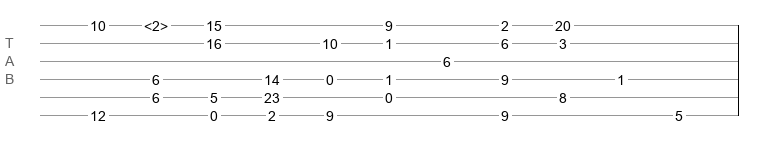0: (210, 108, 218, 118), (326, 72, 334, 82), (385, 90, 393, 100)
1: (385, 72, 393, 82), (385, 36, 393, 46), (617, 72, 625, 82)
10: (90, 18, 106, 28), (322, 36, 338, 46)
12: (90, 108, 106, 118)
14: (264, 72, 280, 82)
15: (206, 18, 222, 28)
16: (206, 36, 222, 46)
2: (268, 108, 276, 118), (501, 18, 509, 28)
20: (555, 18, 571, 28)
23: (264, 90, 280, 100)
3: (559, 36, 567, 46)
5: (210, 90, 218, 100), (675, 108, 683, 118)
6: (152, 90, 160, 100), (152, 72, 160, 82), (443, 54, 451, 64), (501, 36, 509, 46)
8: (559, 90, 567, 100)
9: (326, 108, 334, 118), (385, 18, 393, 28), (501, 108, 509, 118), (501, 72, 509, 82)
harmonic: (144, 18, 168, 28)
